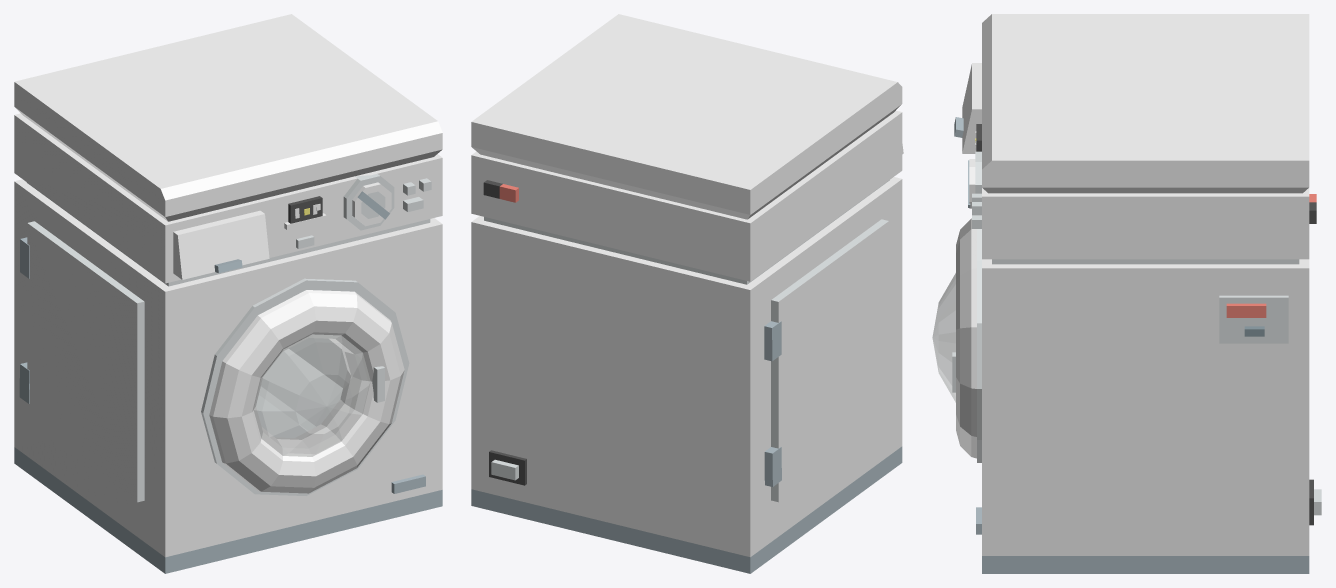
Rendered from washingmachine.fbx.
The picture shows the model from 3 angles, left to right: view 1: azimuth 30°, elevation 25°; view 2: azimuth 150°, elevation 25°; view 3: azimuth 270°, elevation 25°; orthographic projection. The views are drawn at different scales.
Visible parts, largest first — view 1: group5960018; view 2: group5960018; view 3: group5960018, group1859701035, group1799178273.
Part boxes in pixels (box(x1,y1,x2,y2)): group5960018: box(14, 14, 442, 573); group5960018: box(471, 14, 903, 573); group5960018: box(932, 14, 1321, 573); group1859701035: box(1219, 295, 1288, 343); group1799178273: box(1226, 303, 1266, 317).
Size of the model in its own units: 37.4 by 46 by 39.25.
